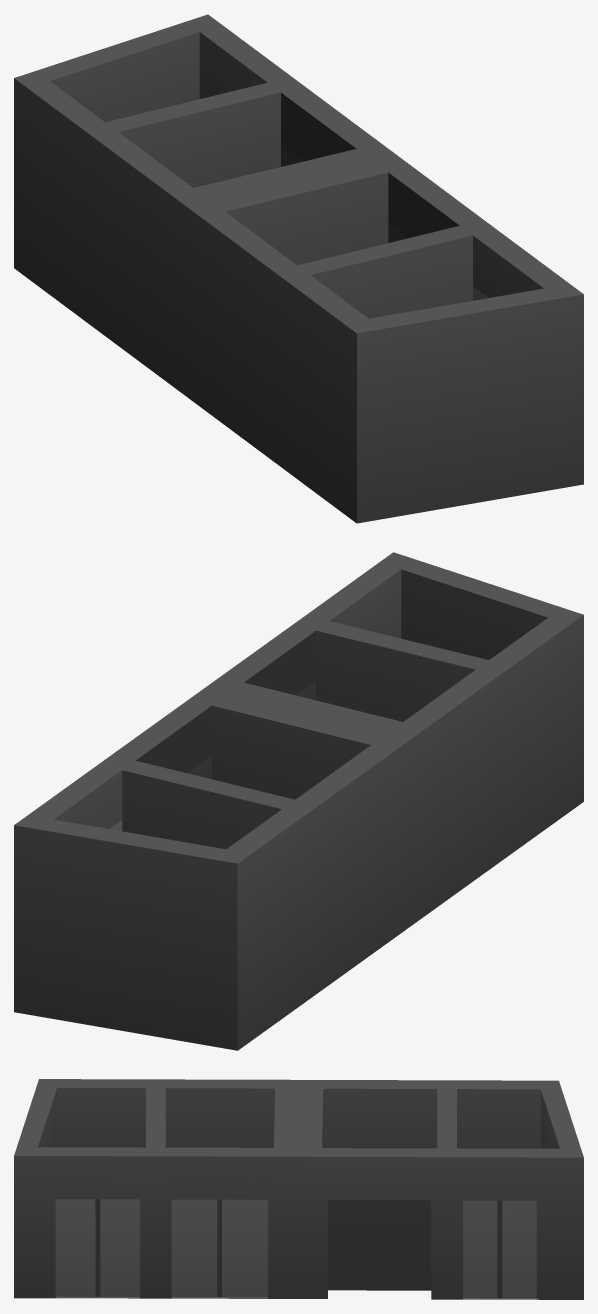
File: SM_asansör.fbx
3 views of the same model, one above another, from view 1: azimuth 30°, elevation 25°; view 2: azimuth 150°, elevation 25°; view 3: azimuth 270°, elevation 25° (orthographic). The views are drawn at different scales.
Visible parts, largest first — view 1: zemin.001; view 2: zemin.001; view 3: zemin.001.
Boxes of the visible parts, <box> form: zemin.001: <box>14,14,583,523</box>; zemin.001: <box>14,552,583,1050</box>; zemin.001: <box>14,1079,583,1299</box>.
Size of the model in its own units: 3.56 by 10.91 by 3.
